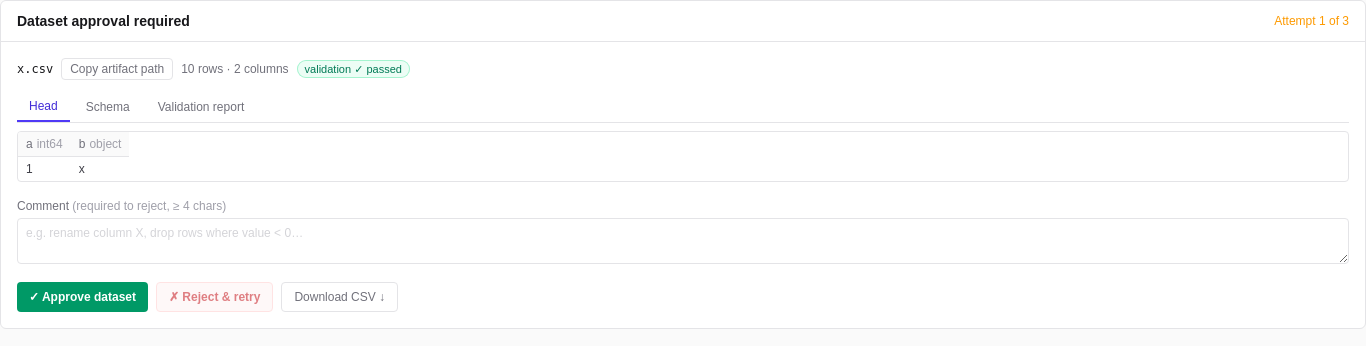
<DatasetApprovalCard> › disables Reject button until comment >= 4 chars
The width and height of the screenshot is (1366, 346).
Expected: the button "✗ Reject & retry" is disabled, [156, 282, 273, 312]
In the text box labelled "Comment (required to reject, ≥ 4 chars)": (683, 241) [17, 218, 1349, 264], type "bad data"
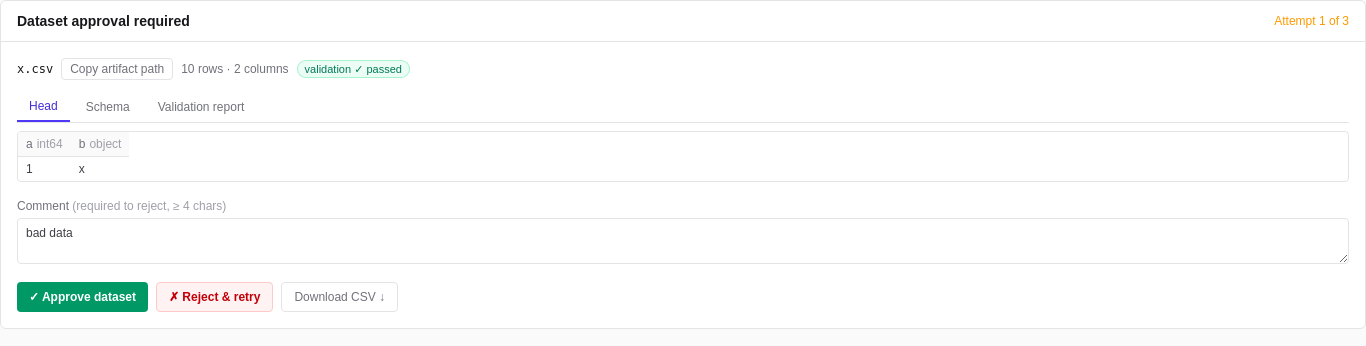
Now the button "✗ Reject & retry" is enabled, box [156, 282, 273, 312]
